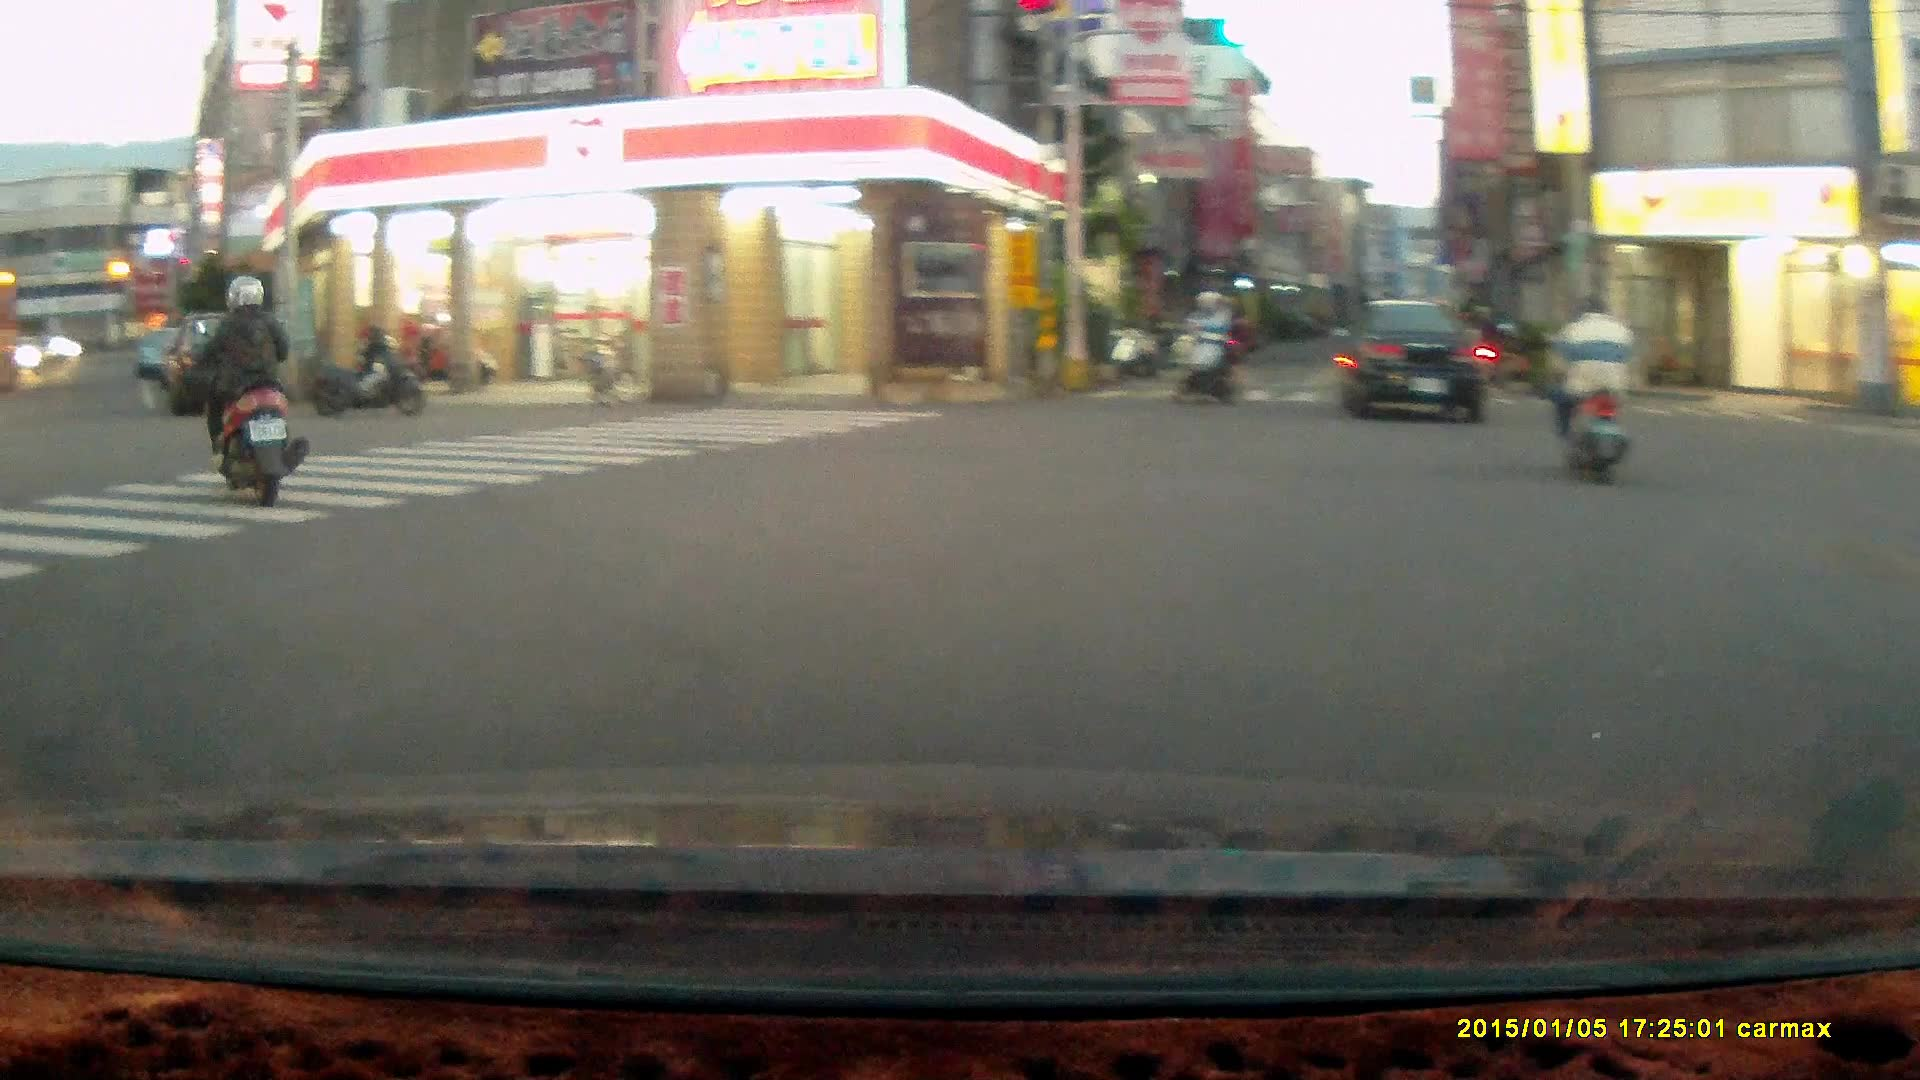rider: (193, 276, 308, 505), (1545, 291, 1639, 490), (1171, 286, 1240, 409)
vehicle: (1339, 299, 1496, 421), (162, 306, 292, 409)
